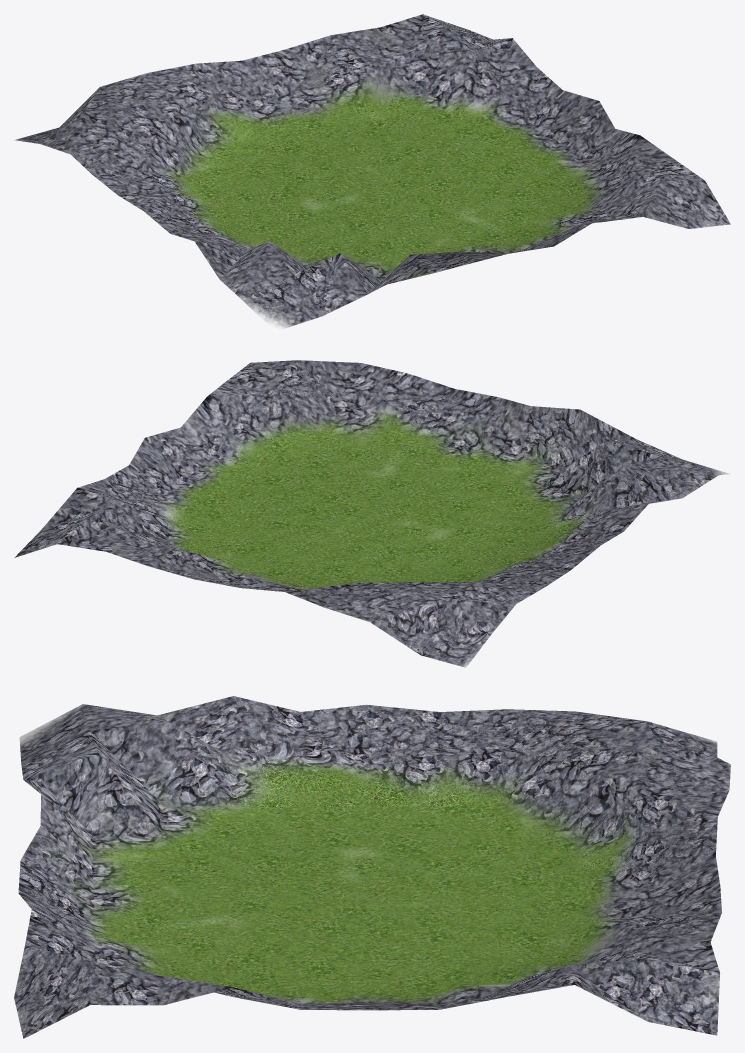
Rendered from terrain.fbx.
The picture shows the model from 3 angles, top to bottom: view 1: azimuth 30°, elevation 25°; view 2: azimuth 150°, elevation 25°; view 3: azimuth 270°, elevation 25°; orthographic projection. The views are drawn at different scales.
Parts seen in each view (by area): view 1: plane; view 2: plane; view 3: plane.
Boxes of the visible parts, box(x1,y1,x2,y2) form: plane: box(14, 14, 730, 331); plane: box(14, 360, 730, 667); plane: box(14, 696, 730, 1038).
Bounding box in the file's own units: 309 × 27.27 × 310.
1 material, 1 textured.
